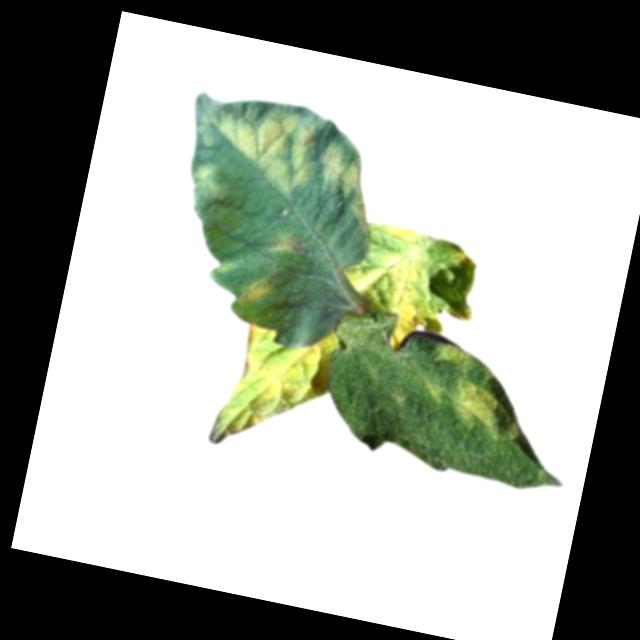Leaf_Mold: (189, 93, 369, 207), (209, 319, 344, 466), (329, 233, 446, 357), (446, 377, 527, 448), (188, 160, 233, 214), (430, 340, 480, 376), (266, 227, 310, 262), (239, 274, 277, 313), (382, 223, 423, 245)
